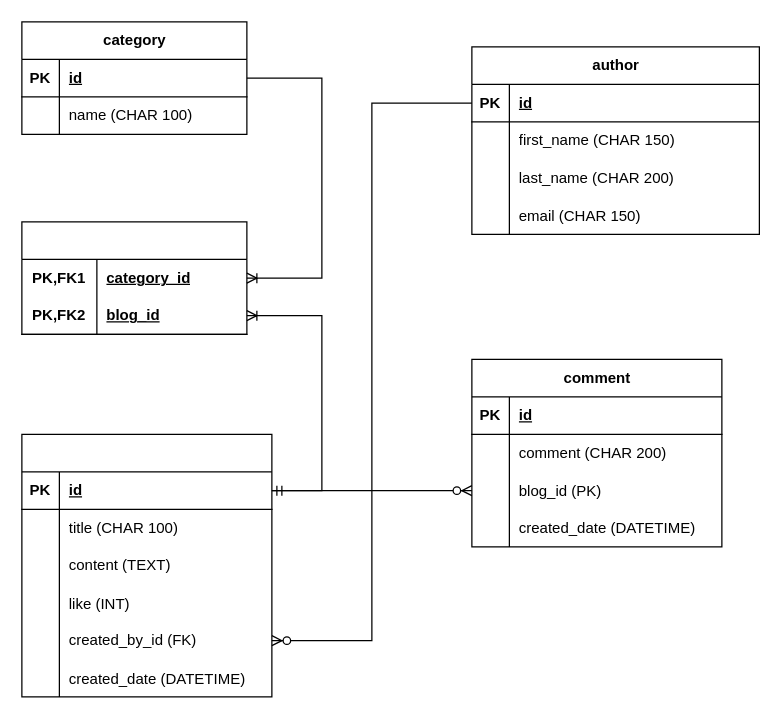
Some shapes in this 781 by 719 pixel diagram are drawn without their labels. Here are the shapes that lost their labels. From the top down, the box of each, then its label:
(21, 221, 247, 334): blog_category
(21, 433, 272, 697): blog
